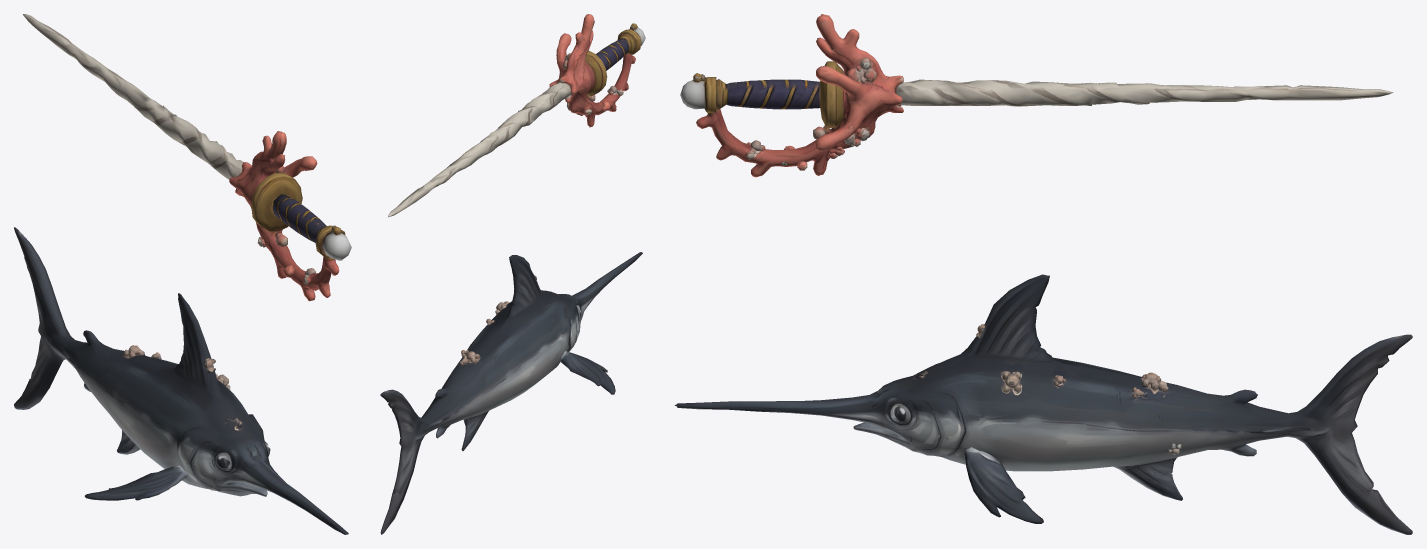
Rendered from duelist_drowned_props_tripo.glb.
The picture shows the model from 3 angles, left to right: view 1: azimuth 30°, elevation 25°; view 2: azimuth 150°, elevation 25°; view 3: azimuth 270°, elevation 25°; orthographic projection. The views are drawn at different scales.
Parts seen in each view (by area): view 1: tripo_node_c5a8f386-4da5-4ab0-a737-f850ea9c1f73; view 2: tripo_node_c5a8f386-4da5-4ab0-a737-f850ea9c1f73; view 3: tripo_node_c5a8f386-4da5-4ab0-a737-f850ea9c1f73.
Boxes of the visible parts, <box> form: tripo_node_c5a8f386-4da5-4ab0-a737-f850ea9c1f73: <box>14,14,351,534</box>; tripo_node_c5a8f386-4da5-4ab0-a737-f850ea9c1f73: <box>380,14,645,534</box>; tripo_node_c5a8f386-4da5-4ab0-a737-f850ea9c1f73: <box>675,14,1412,534</box>.
Size of the model in its own units: 0.3066 by 0.7754 by 0.998.
Materials: 1 (1 with a texture image).
